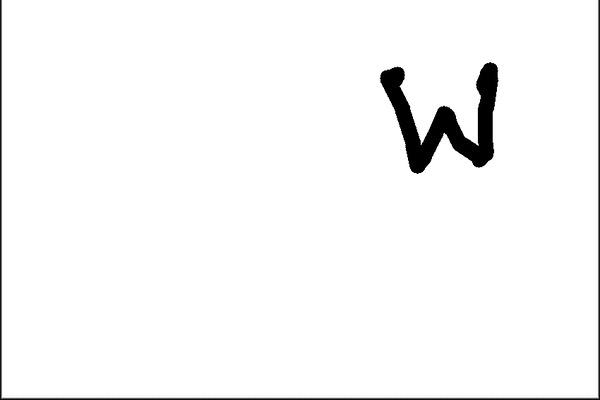w: (367, 41, 519, 188)
